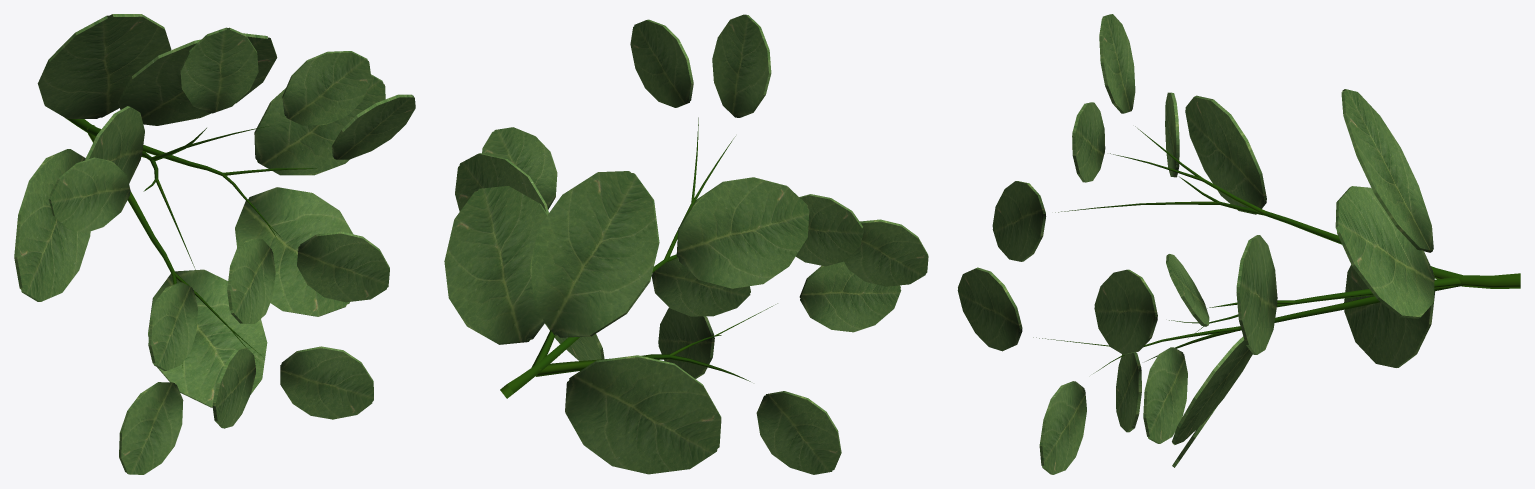
File: plant13.obj
3 views of the same model, side by side, from view 1: azimuth 30°, elevation 25°; view 2: azimuth 150°, elevation 25°; view 3: azimuth 270°, elevation 25° (orthographic). The views are drawn at different scales.
Visible parts, largest first — view 1: leaves.009, tree.009; view 2: leaves.009, tree.009; view 3: leaves.009, tree.009.
Part boxes in pixels (x1=…): leaves.009: x1=14, y1=14, x2=415, y2=474; tree.009: x1=65, y1=118, x2=316, y2=367; leaves.009: x1=444, y1=14, x2=928, y2=474; tree.009: x1=500, y1=117, x2=777, y2=398; leaves.009: x1=957, y1=14, x2=1435, y2=474; tree.009: x1=1033, y1=126, x2=1520, y2=373.
Size of the model in its own units: 0.2117 by 0.2357 by 0.2682.
2 materials, 2 textured.
